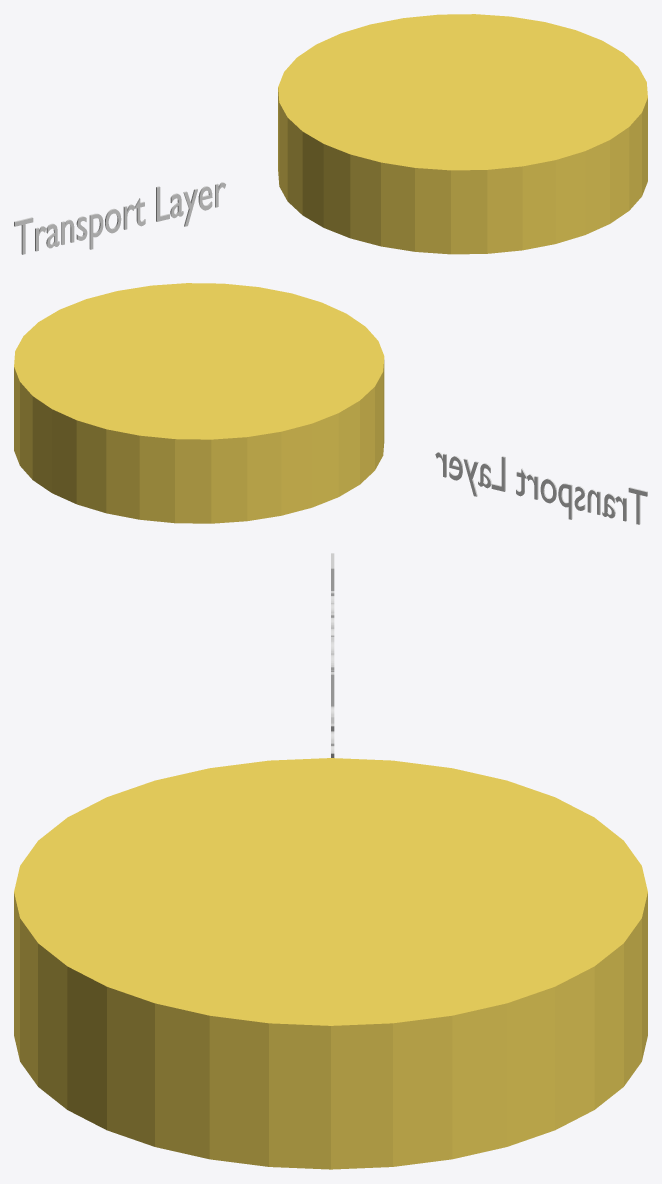
The picture shows the model from 3 angles, top to bottom: view 1: azimuth 30°, elevation 25°; view 2: azimuth 150°, elevation 25°; view 3: azimuth 270°, elevation 25°; orthographic projection. The views are drawn at different scales.
Parts seen in each view (by area): view 1: Silinder.003, Teks.003; view 2: Silinder.003, Teks.003; view 3: Silinder.003.
Boxes of the visible parts, <box> form: Silinder.003: <box>278,14,647,254</box>; Teks.003: <box>14,182,225,254</box>; Silinder.003: <box>14,283,384,523</box>; Teks.003: <box>435,452,647,524</box>; Silinder.003: <box>14,758,647,1169</box>.
Bounding box in the file's own units: 379 × 50 × 200.
